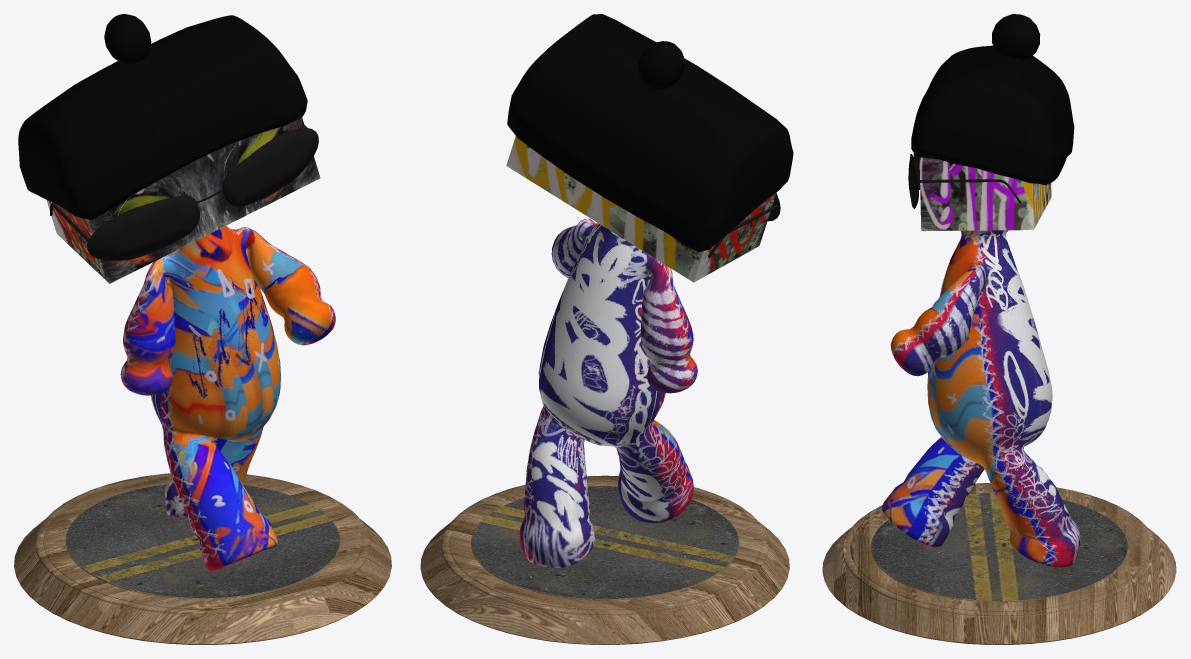
The picture shows the model from 3 angles, left to right: view 1: azimuth 30°, elevation 25°; view 2: azimuth 150°, elevation 25°; view 3: azimuth 270°, elevation 25°; orthographic projection. The views are drawn at different scales.
Size of the model in its own units: 1.45 by 2.36 by 1.45.
6 materials, 4 textured.
